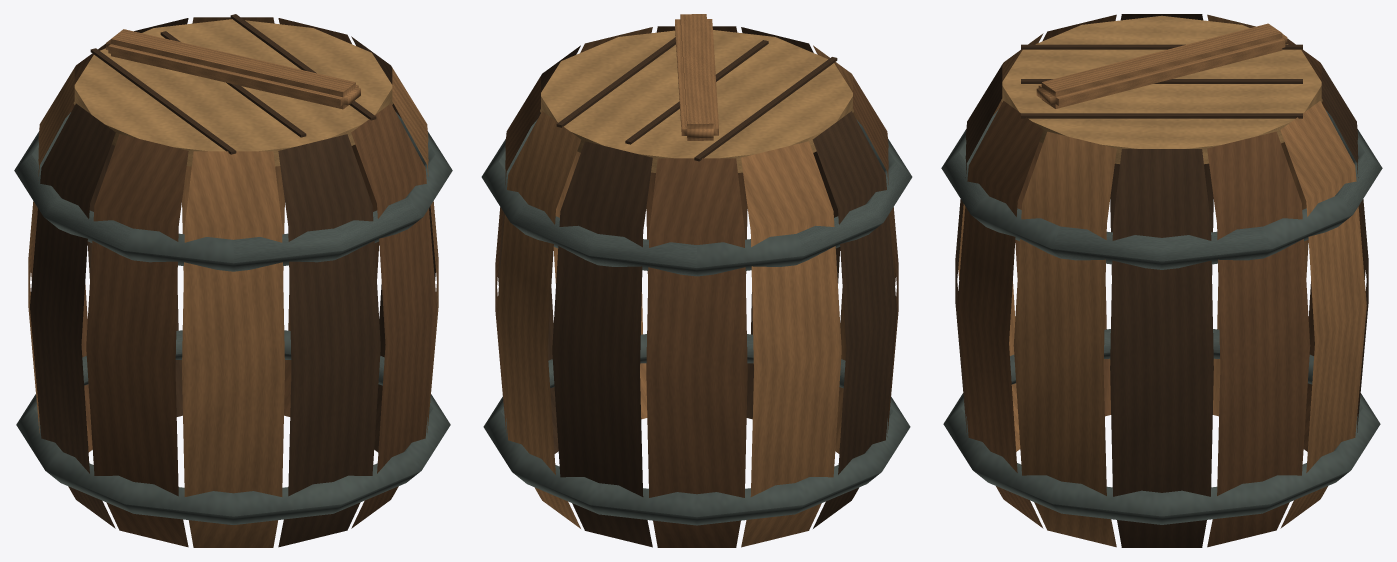
Rendered from barrel-2.fbx.
3 renders of one model, left to right at view 1: azimuth 30°, elevation 25°; view 2: azimuth 150°, elevation 25°; view 3: azimuth 270°, elevation 25°, orthographic. The views are drawn at different scales.
Visible parts, largest first — view 1: barrel-2__Geometry; view 2: barrel-2__Geometry; view 3: barrel-2__Geometry.
Part boxes in pixels (<box>): barrel-2__Geometry: <box>14,14,452,547</box>; barrel-2__Geometry: <box>481,14,912,547</box>; barrel-2__Geometry: <box>941,14,1382,547</box>.
Bounding box in the file's own units: 0.9224 × 0.975 × 0.9224.
